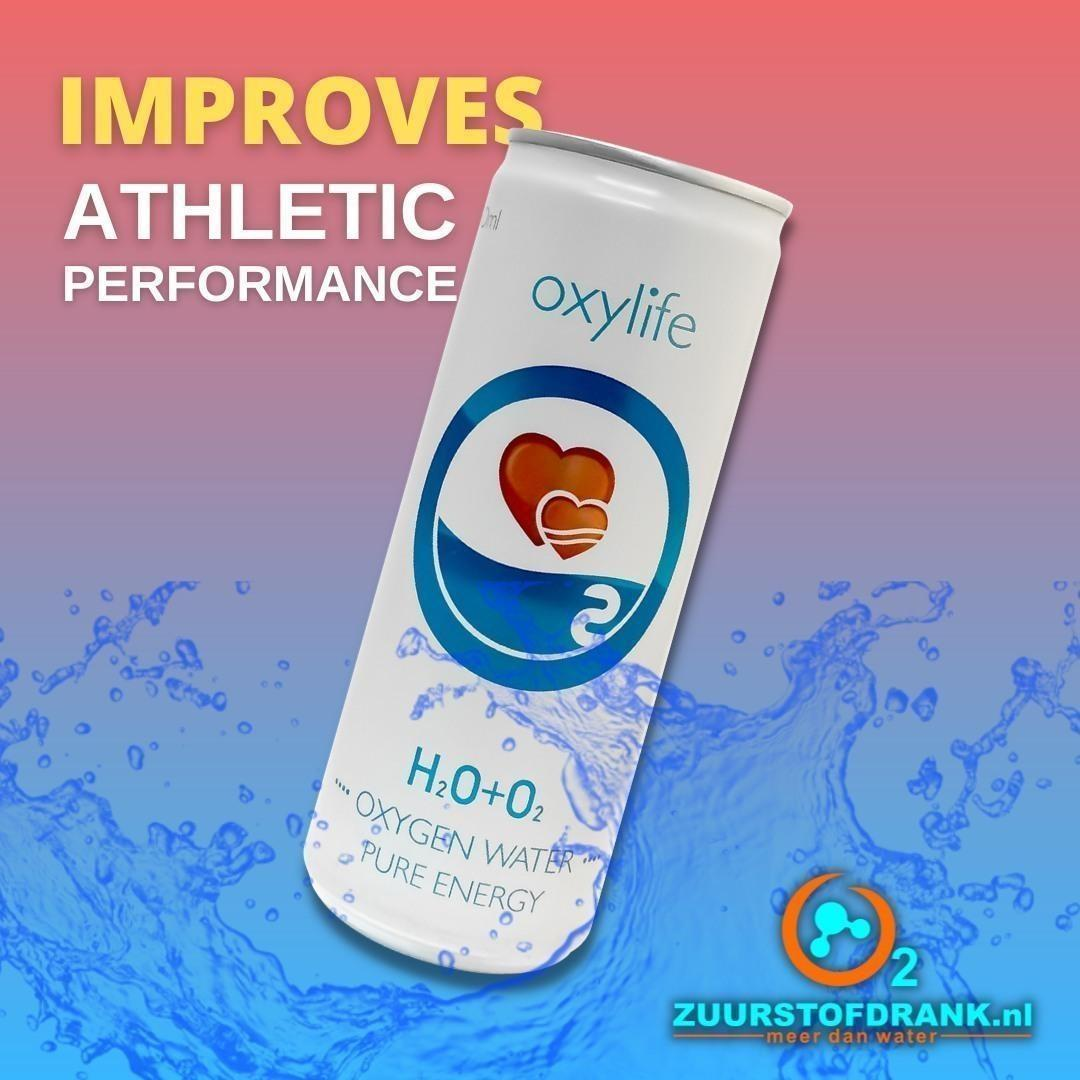tin can: (296, 121, 807, 987)
